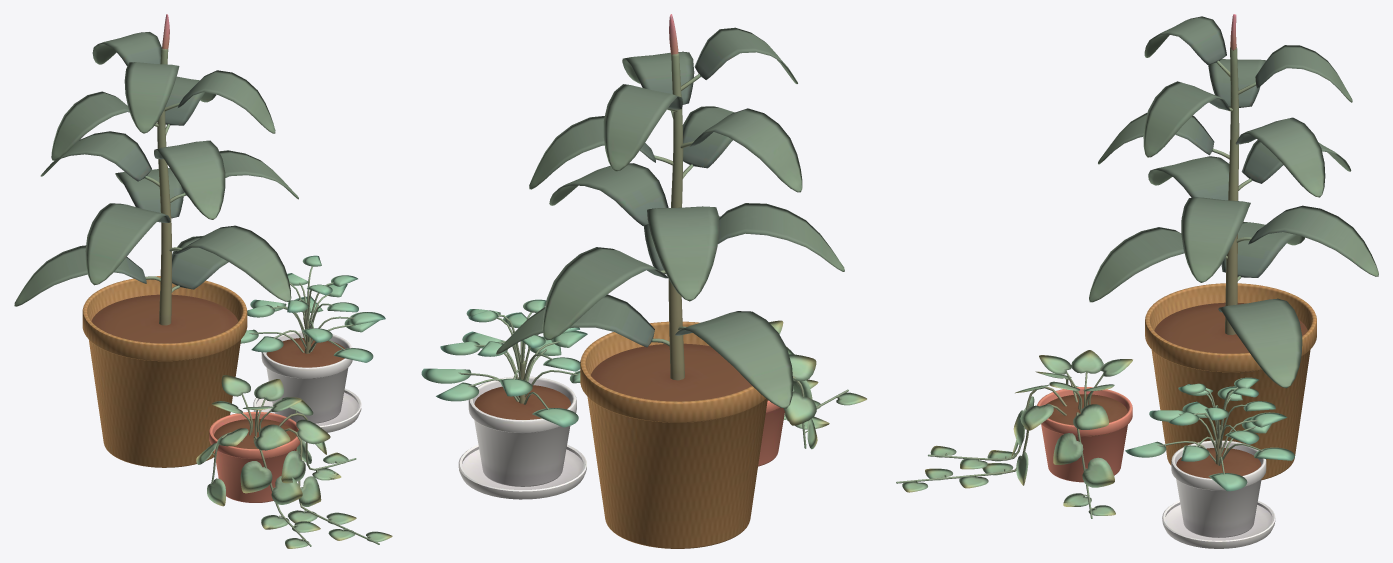
Rendered from houseplant-set.glb.
3 views of the same model, side by side, from view 1: azimuth 30°, elevation 25°; view 2: azimuth 150°, elevation 25°; view 3: azimuth 270°, elevation 25° (orthographic). The views are drawn at different scales.
Parts seen in each view (by area): view 1: houseplant-set_body; view 2: houseplant-set_body; view 3: houseplant-set_body.
Boxes of the visible parts, left/top/right/bottom form: houseplant-set_body: left=14, top=14, right=392, bottom=548; houseplant-set_body: left=421, top=14, right=866, bottom=548; houseplant-set_body: left=896, top=14, right=1378, bottom=548.
Bounding box in the file's own units: 0.6674 × 0.805 × 0.7913.
1 material, 1 textured.
